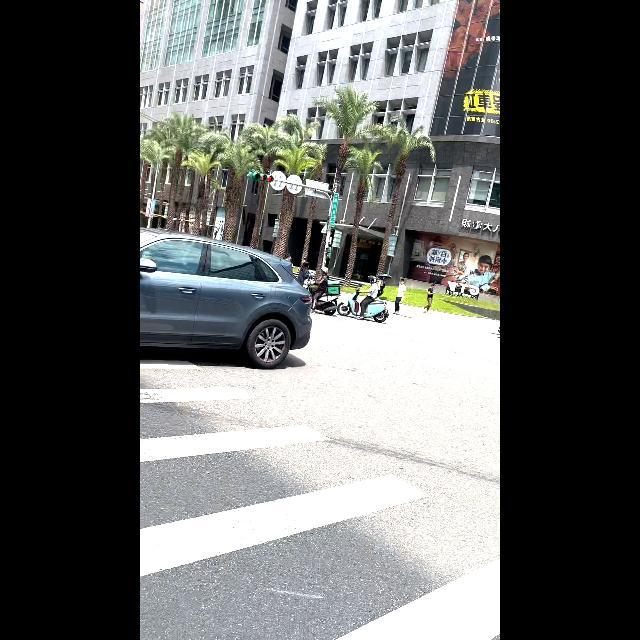sidewalk: (141, 355, 500, 640)
